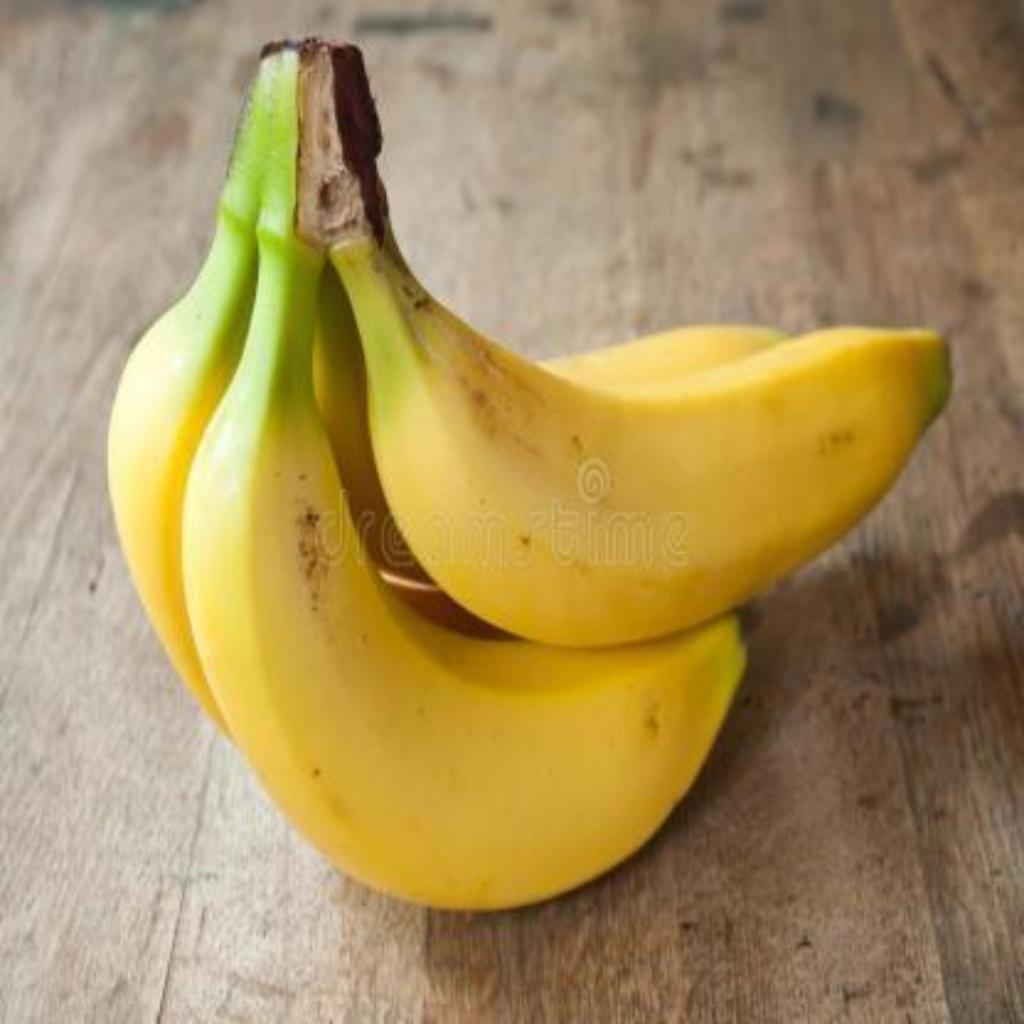banana: (180, 281, 748, 913), (364, 187, 953, 652)
